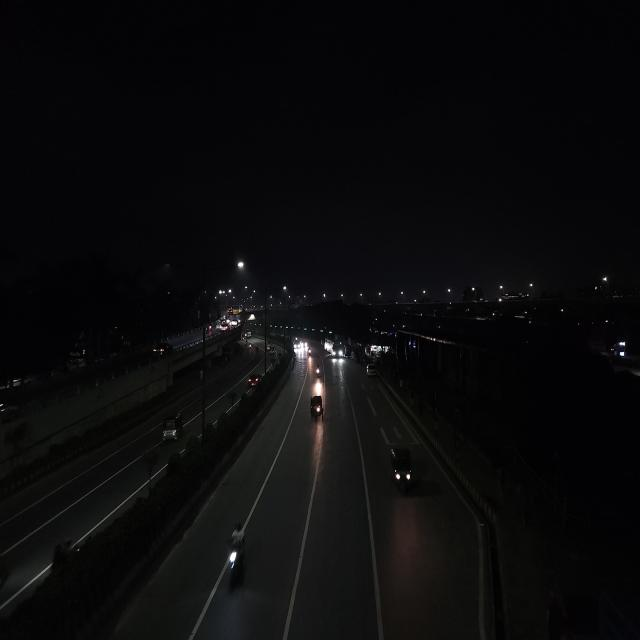bus: (332, 338, 344, 360)
car: (151, 339, 172, 358), (246, 372, 262, 389), (364, 361, 378, 378), (220, 321, 230, 331)
cng: (385, 442, 417, 498), (161, 408, 184, 442), (308, 393, 324, 423)
motorcycle: (222, 518, 251, 593), (314, 362, 321, 378)
